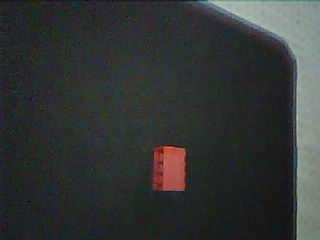lego: (150, 145, 188, 193)
